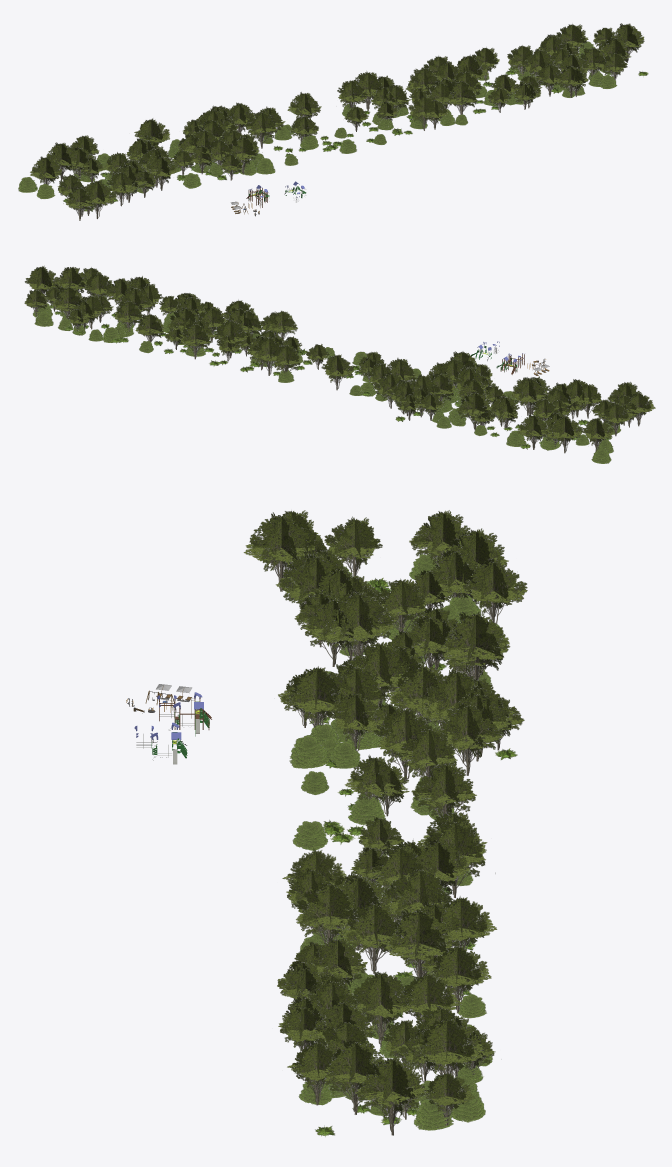
File: мафы деревья детские площаки лавочки  (1).glb
The picture shows the model from 3 angles, top to bottom: view 1: azimuth 30°, elevation 25°; view 2: azimuth 150°, elevation 25°; view 3: azimuth 270°, elevation 25°; orthographic projection. The views are drawn at different scales.
Visible parts, largest first — view 1: maf.4549, maf.4671, maf.4676, maf.4536, maf.4629, maf.4766, maf.4707, maf.7585, maf.4473, maf.4832, maf.4839, maf.4541 (+33 smaller); view 2: maf.4473, maf.4649, maf.4766, maf.4475, maf.4807, maf.4707, maf.4783, maf.4629, maf.4806, maf.4832, maf.4773, maf.7585 (+32 smaller); view 3: maf.4707, maf.4473, maf.4671, maf.4787, maf.4806, maf.4676, maf.4839, maf.4480, maf.4766, maf.4835, maf.4475, maf.4693 (+38 smaller).
Boxes of the visible parts, bbox=[...] form: maf.4549: bbox=[245, 111, 277, 148]; maf.4671: bbox=[85, 180, 115, 218]; maf.4676: bbox=[445, 81, 477, 114]; maf.4536: bbox=[226, 136, 259, 173]; maf.4629: bbox=[30, 156, 61, 184]; maf.4766: bbox=[287, 92, 321, 118]; maf.4707: bbox=[611, 23, 644, 62]; maf.7585: bbox=[408, 96, 438, 130]; maf.4473: bbox=[134, 118, 169, 144]; maf.4832: bbox=[337, 80, 367, 108]; maf.4839: bbox=[521, 48, 555, 86]; maf.4541: bbox=[148, 156, 177, 190]; maf.4473: bbox=[456, 391, 492, 429]; maf.4649: bbox=[548, 415, 582, 453]; maf.4766: bbox=[321, 354, 354, 390]; maf.4475: bbox=[517, 414, 548, 449]; maf.4807: bbox=[180, 324, 210, 359]; maf.4707: bbox=[25, 266, 59, 293]; maf.4783: bbox=[253, 337, 281, 375]; maf.4629: bbox=[581, 418, 613, 450]; maf.4806: bbox=[52, 287, 82, 317]; maf.4832: bbox=[272, 345, 300, 372]; maf.4773: bbox=[212, 320, 249, 358]; maf.7585: bbox=[268, 310, 297, 339]; maf.4707: bbox=[355, 1056, 426, 1135]; maf.4473: bbox=[440, 612, 509, 679]; maf.4671: bbox=[244, 512, 316, 591]; maf.4787: bbox=[384, 909, 452, 977]; maf.4806: bbox=[411, 1018, 485, 1075]; maf.4676: bbox=[296, 882, 358, 945]; maf.4839: bbox=[351, 970, 416, 1047]; maf.4480: bbox=[440, 704, 502, 775]; maf.4766: bbox=[411, 762, 476, 817]; maf.4835: bbox=[338, 900, 398, 973]; maf.4475: bbox=[462, 559, 527, 623]; maf.4693: bbox=[324, 1040, 384, 1114].
Size of the model in its own units: 292 by 18.29 by 86.29.
10 materials, 4 textured.
